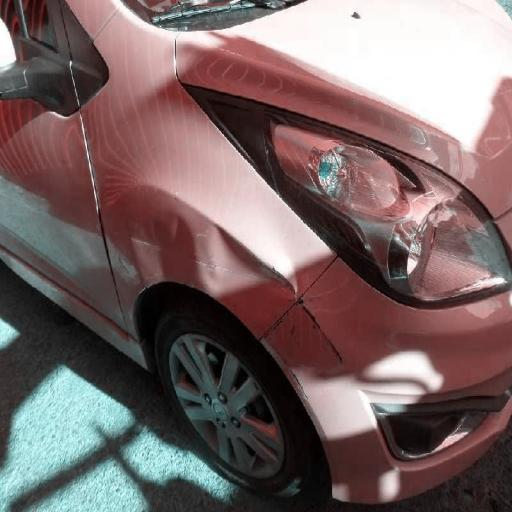dent: (166, 38, 464, 394)
